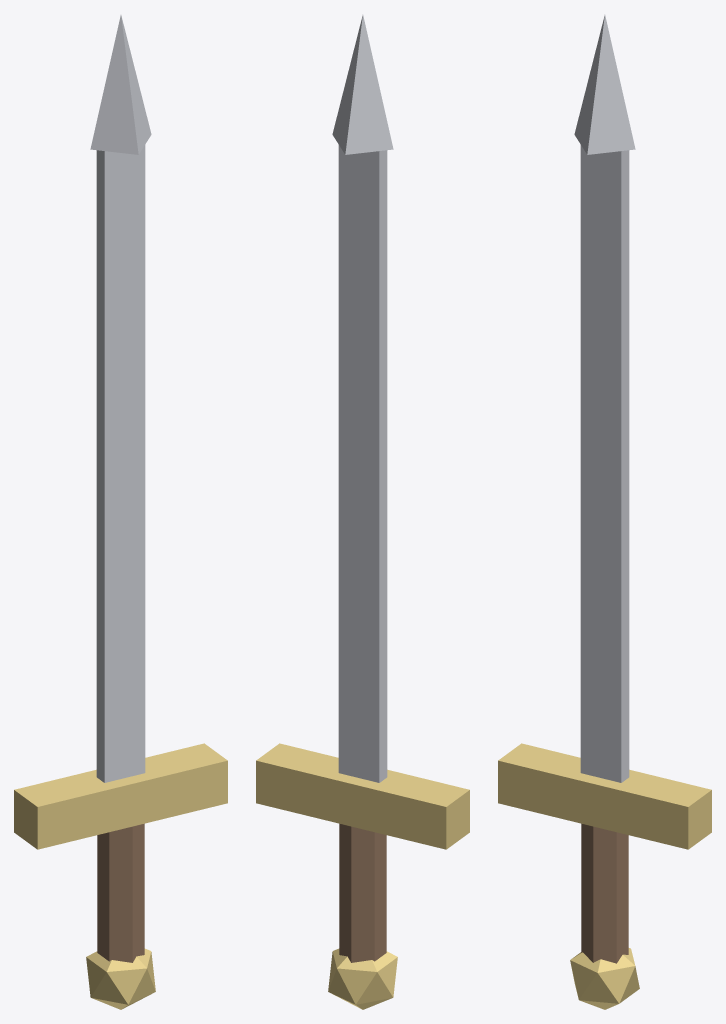
The model's file is sword.glb.
The picture shows the model from 3 angles, left to right: view 1: azimuth 30°, elevation 25°; view 2: azimuth 150°, elevation 25°; view 3: azimuth 330°, elevation 25°; orthographic projection.
Parts seen in each view (by area): view 1: sword; view 2: sword; view 3: sword.
Boxes of the visible parts, bbox=[...] form: sword: bbox=[14, 15, 227, 1009]; sword: bbox=[256, 15, 469, 1009]; sword: bbox=[498, 15, 711, 1009].
Size of the model in its own units: 0.28 by 1.4 by 0.09.
